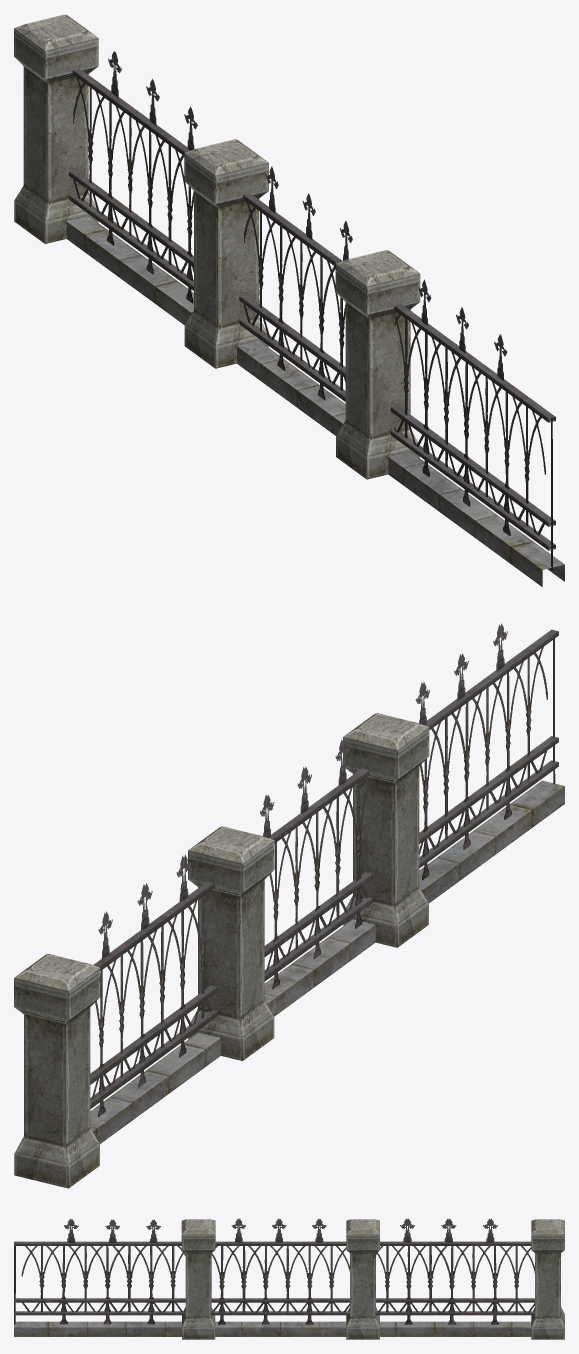
Rendered from bg_lut_lucastle_monument01_sm_sup.FBX.
3 renders of one model, top to bottom at view 1: azimuth 30°, elevation 25°; view 2: azimuth 150°, elevation 25°; view 3: azimuth 270°, elevation 25°, orthographic. The views are drawn at different scales.
Parts seen in each view (by area): view 1: bg_lut_lucastle_monument01_sm_sup; view 2: bg_lut_lucastle_monument01_sm_sup; view 3: bg_lut_lucastle_monument01_sm_sup.
Boxes of the visible parts, x1=… form: bg_lut_lucastle_monument01_sm_sup: x1=14, y1=14, x2=564, y2=586; bg_lut_lucastle_monument01_sm_sup: x1=14, y1=623, x2=564, y2=1188; bg_lut_lucastle_monument01_sm_sup: x1=14, y1=1218, x2=564, y2=1339.
Size of the model in its own units: 24.11 by 92.41 by 396.
